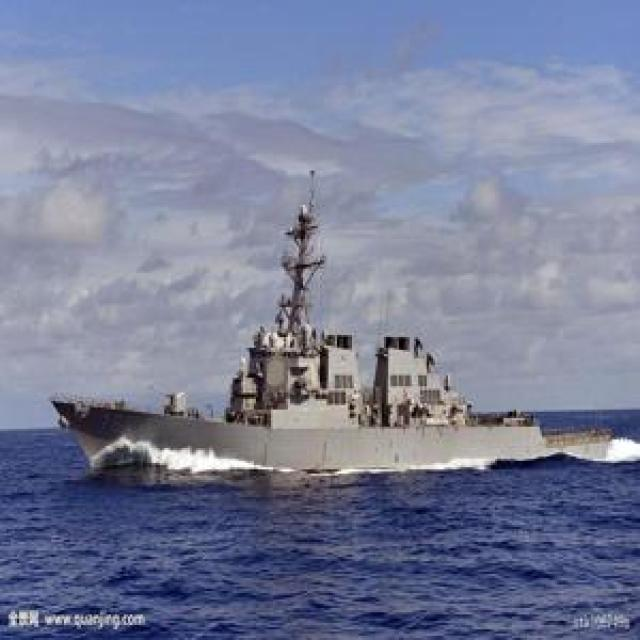navalvessels: (35, 167, 551, 477)
